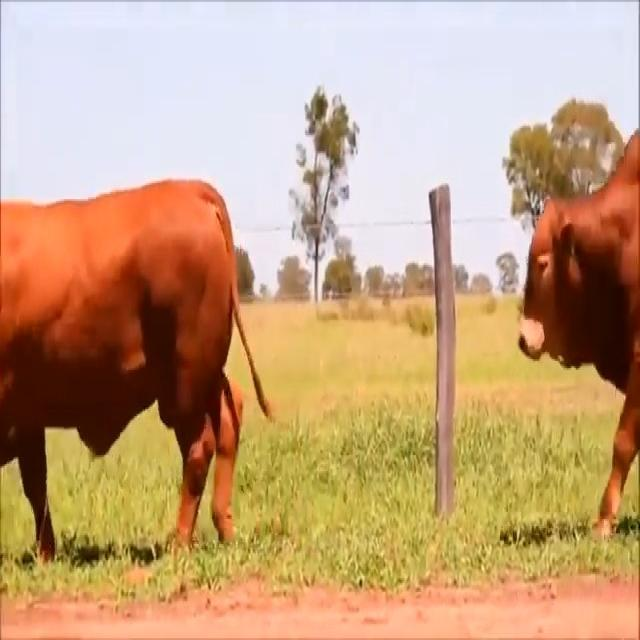COW: (0, 180, 270, 559), (519, 133, 640, 534)
